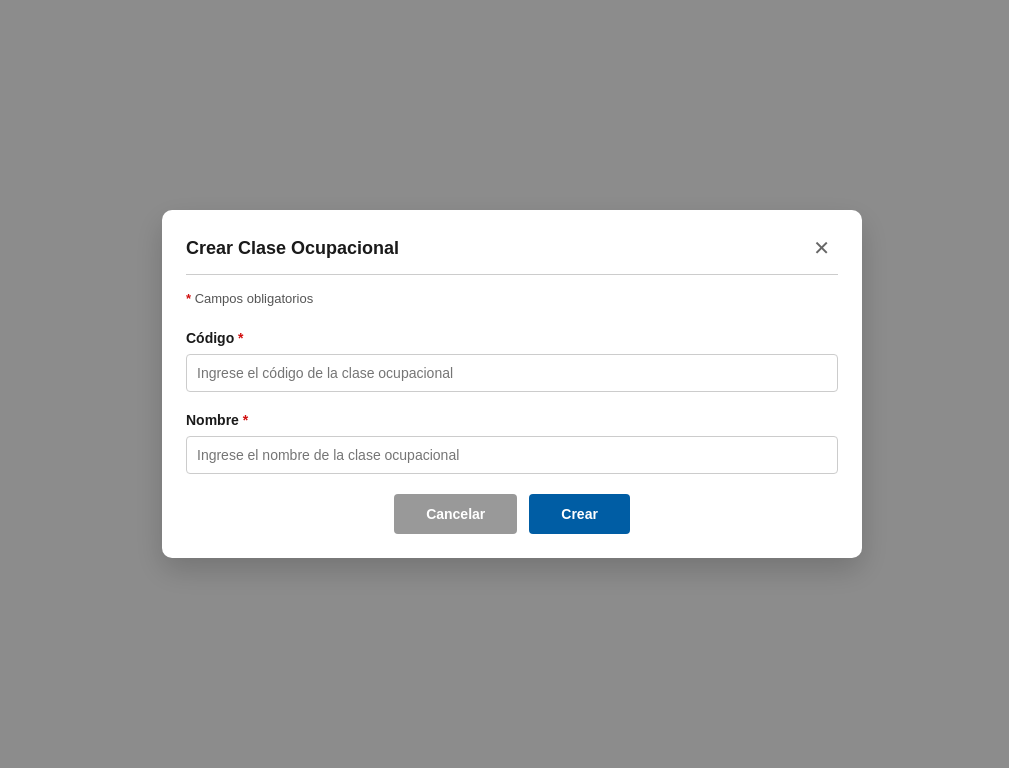
Scenario: CreateOccupationalClasses Modal › muestra error de validación cuando el código está vacío
Type "Profesional 1" into the field with placeholder "Ingrese el nombre de la clase ocupacional" at [512, 455], box [186,436,838,474]
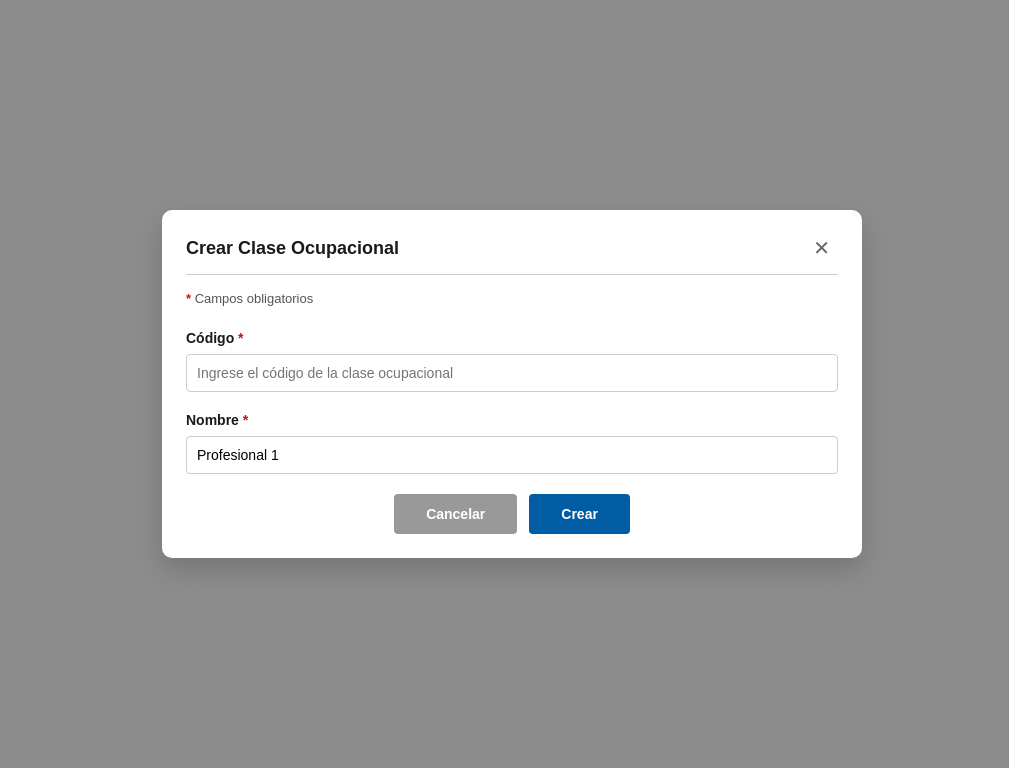
Submit the form, box [186,291,838,534]
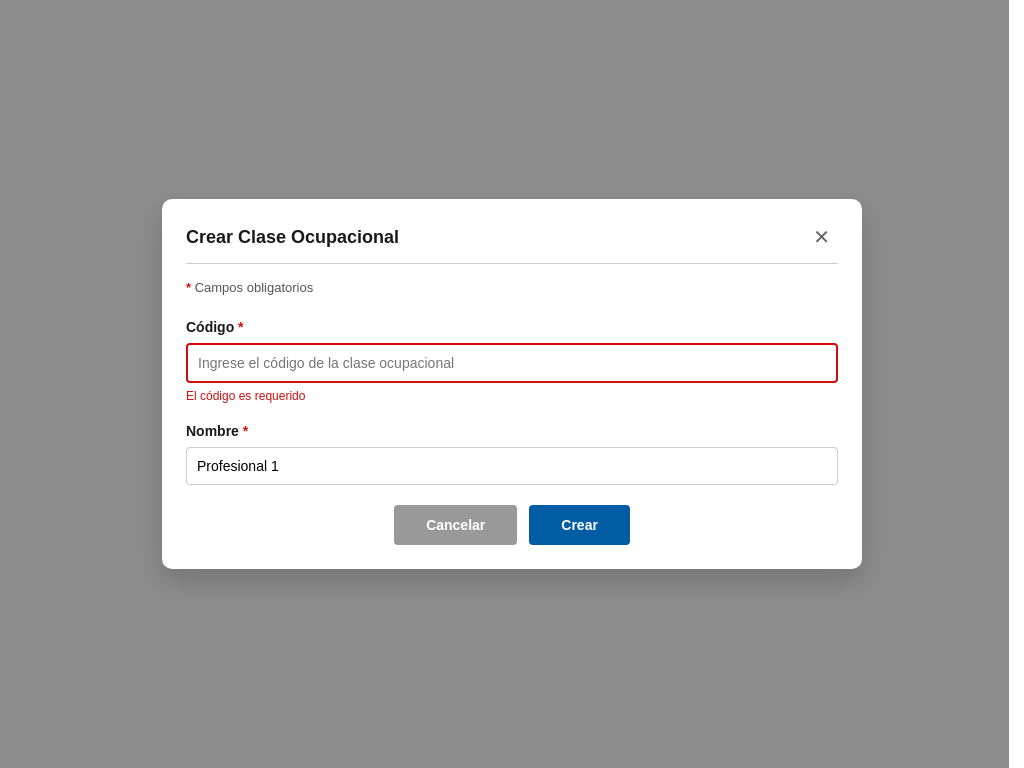
Check: the text "El código es requerido" is shown, box [186,389,305,403]
